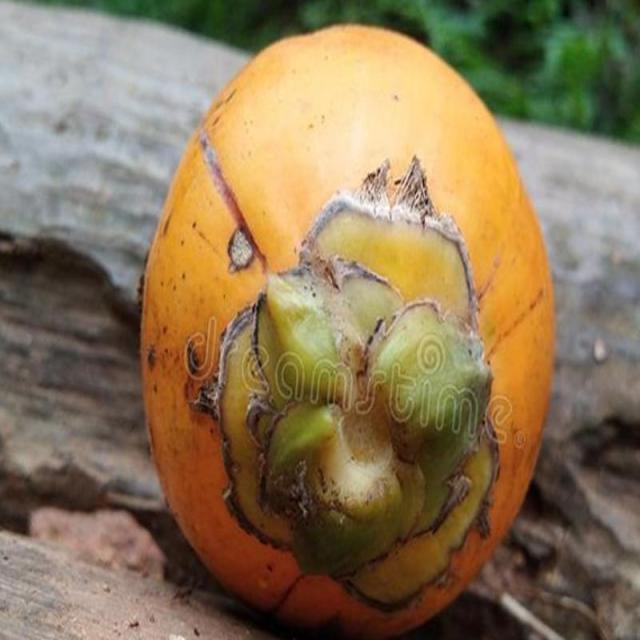good: (139, 25, 556, 639)
